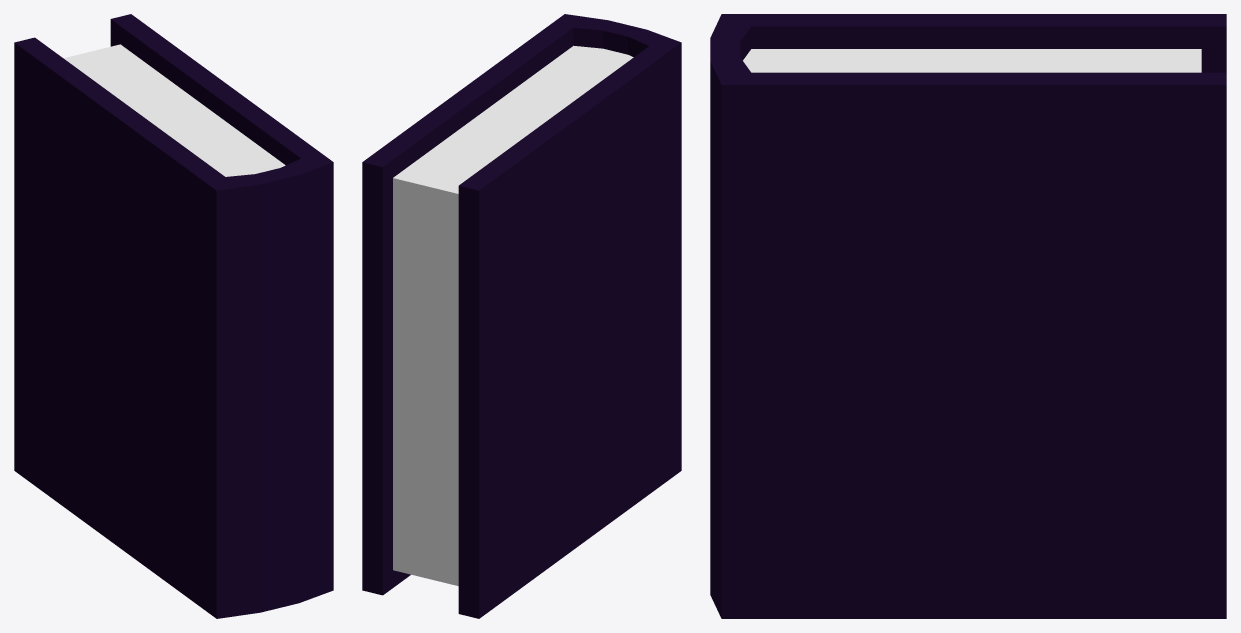
The model's file is Buch_Violet.fbx.
The picture shows the model from 3 angles, left to right: view 1: azimuth 30°, elevation 25°; view 2: azimuth 150°, elevation 25°; view 3: azimuth 270°, elevation 25°; orthographic projection. The views are drawn at different scales.
Visible parts, largest first — view 1: Cube; view 2: Cube; view 3: Cube.
Boxes of the visible parts, x1,y1,x2,y2 form: Cube: (14, 14, 333, 618); Cube: (362, 14, 681, 618); Cube: (710, 14, 1226, 618).
Bounding box in the file's own units: 40 × 140 × 123.
